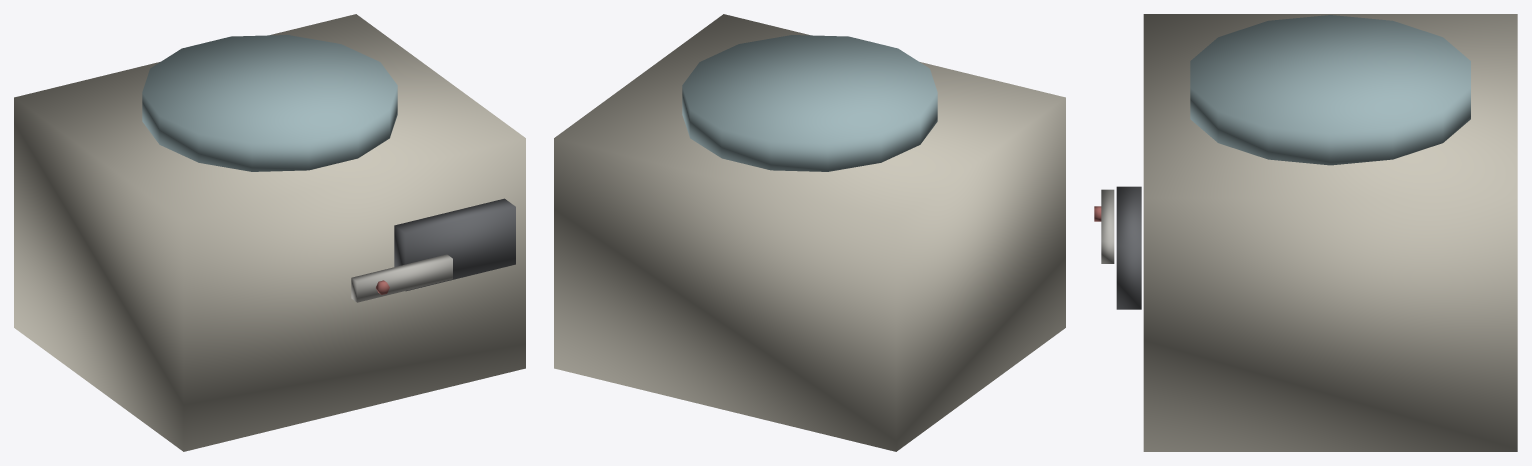
File: centrifuge_bench_unit__compact.glb
The picture shows the model from 3 angles, left to right: view 1: azimuth 30°, elevation 25°; view 2: azimuth 150°, elevation 25°; view 3: azimuth 270°, elevation 25°; orthographic projection. The views are drawn at different scales.
Parts seen in each view (by area): view 1: world; view 2: world; view 3: world.
Boxes of the visible parts, box(x1,y1,x2,y2) form: world: box(14, 14, 525, 451); world: box(554, 14, 1065, 451); world: box(1094, 14, 1517, 451).
Size of the model in its own units: 0.5208 by 0.3767 by 0.5061.
